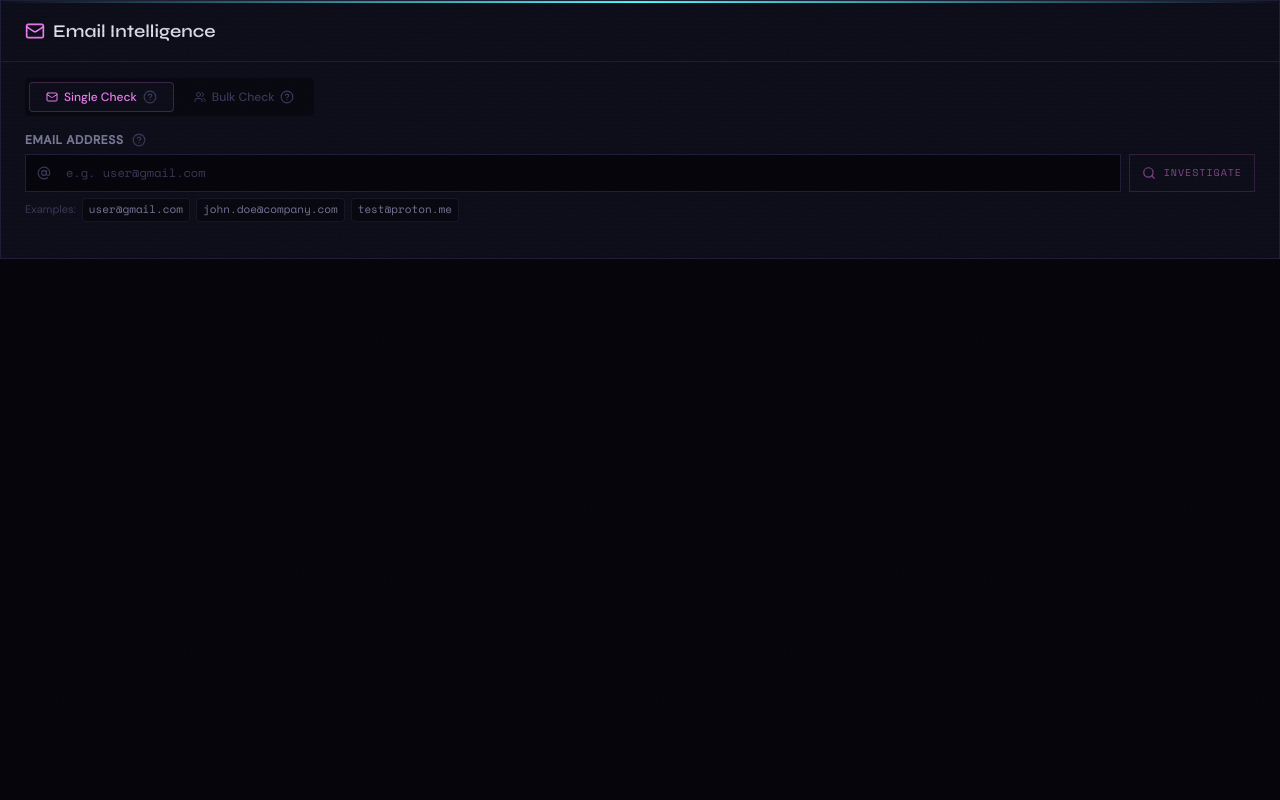
Test case: EmailOsintPanel › renders bulk results when bulkEmailResult is present
Click the button "Bulk Check": (244, 97) [178,82,310,112]
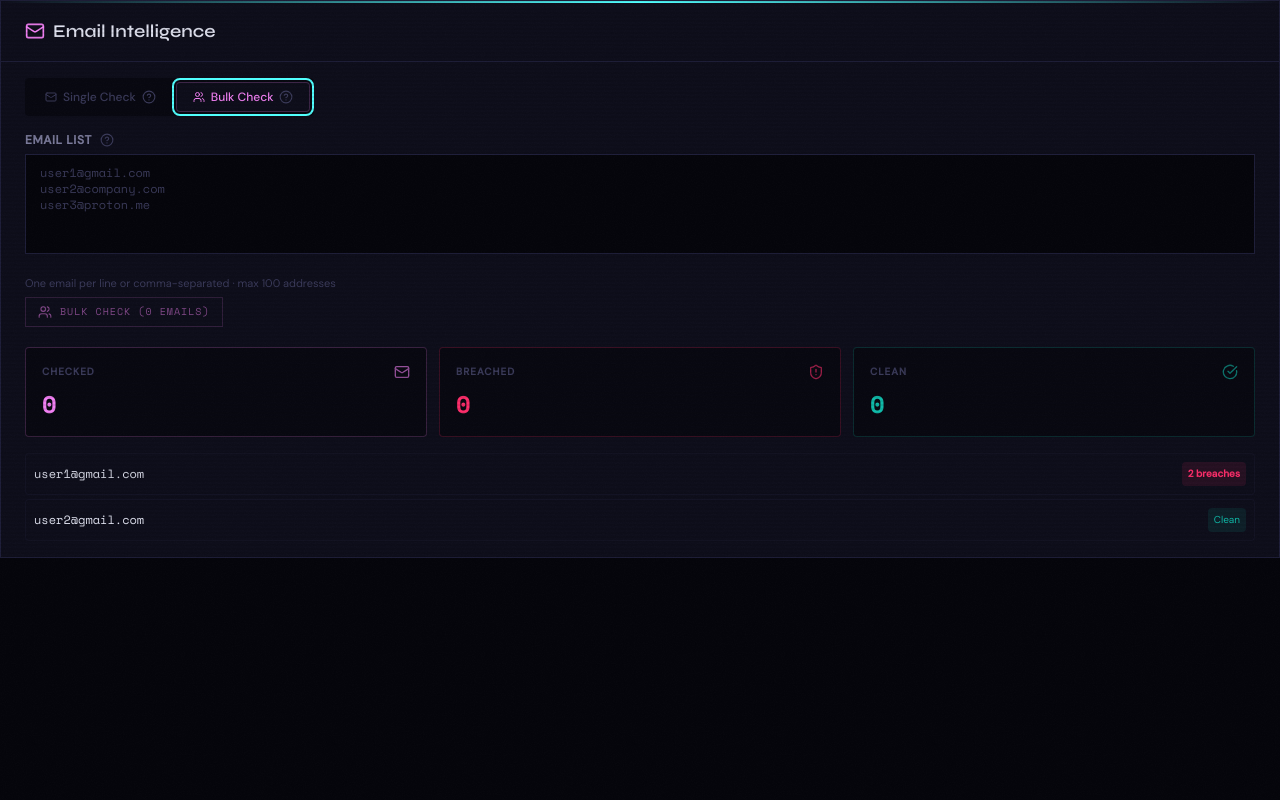
Check: the text "user1@gmail.com" is shown, box [34,466,144,482]
